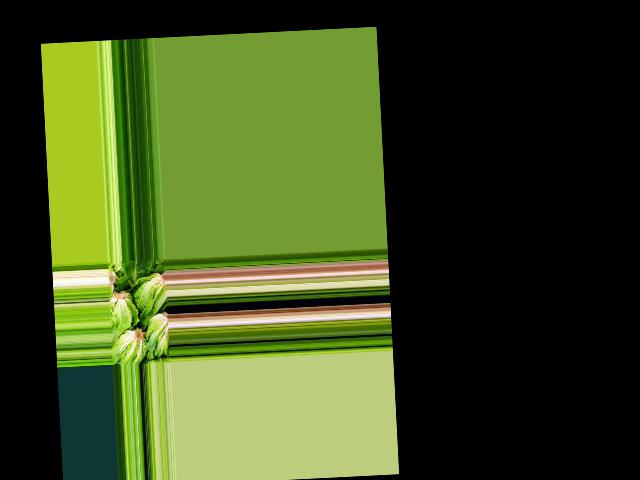lettuce: (121, 258, 146, 284)
